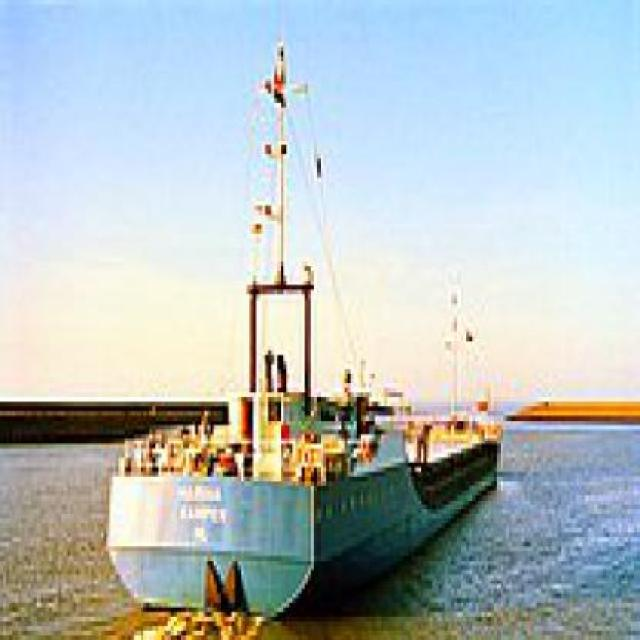container: (86, 253, 507, 627)
